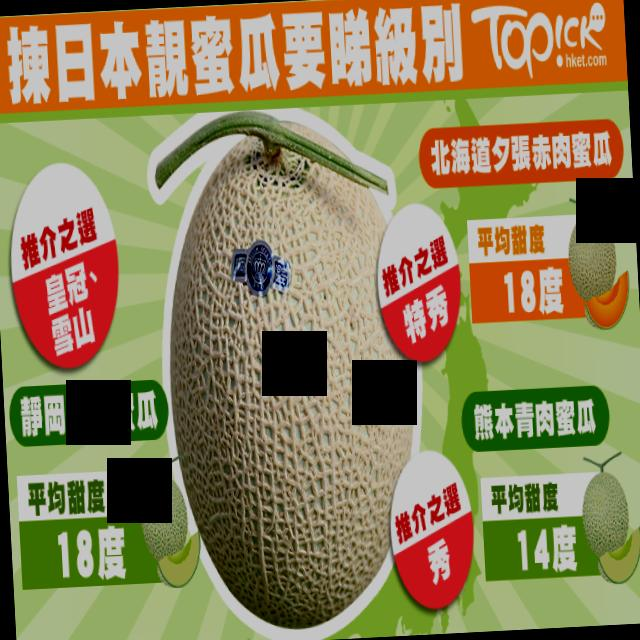melon: (146, 111, 424, 634)
